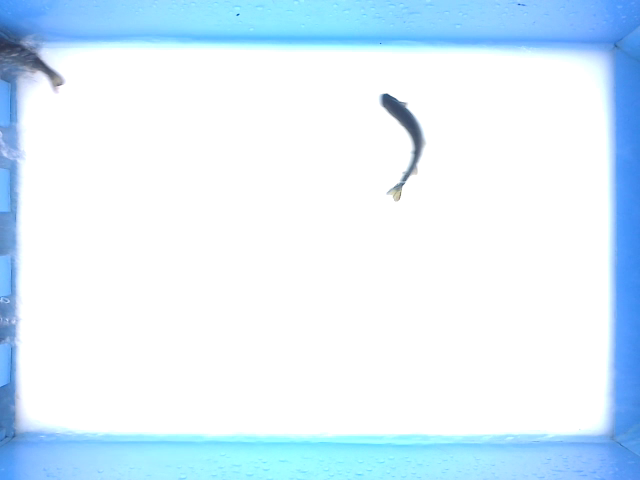fish: (375, 90, 426, 205)
